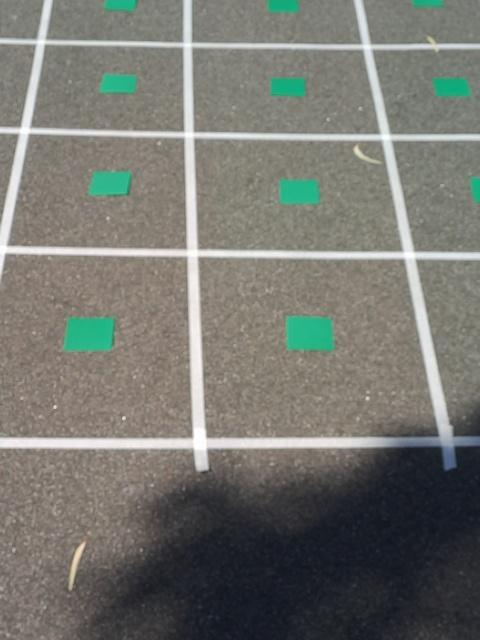weed: (60, 309, 118, 359), (284, 308, 336, 357), (278, 166, 321, 211), (84, 164, 131, 201), (427, 69, 477, 103), (266, 70, 310, 103), (99, 64, 139, 98), (262, 0, 303, 18), (98, 0, 134, 16), (408, 0, 450, 13), (466, 172, 480, 203)
